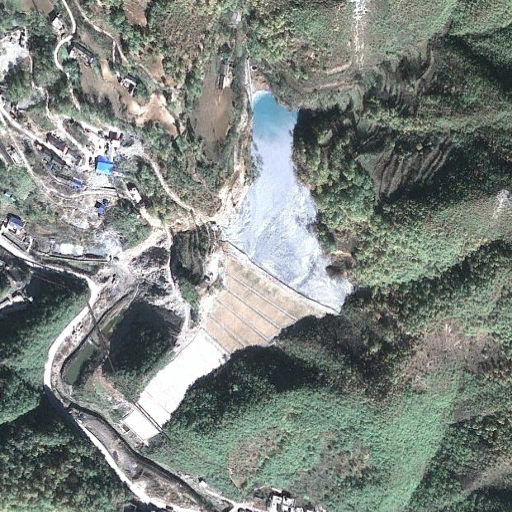tp: (203, 89, 352, 356)
